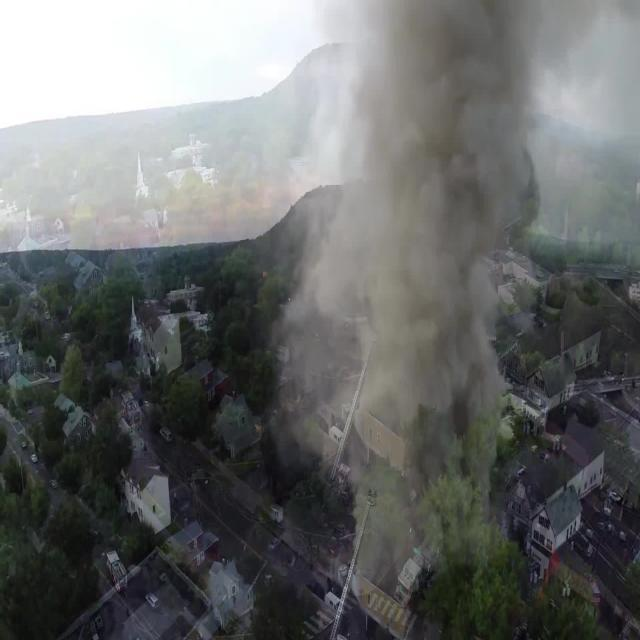Smoke: (314, 1, 508, 542)
